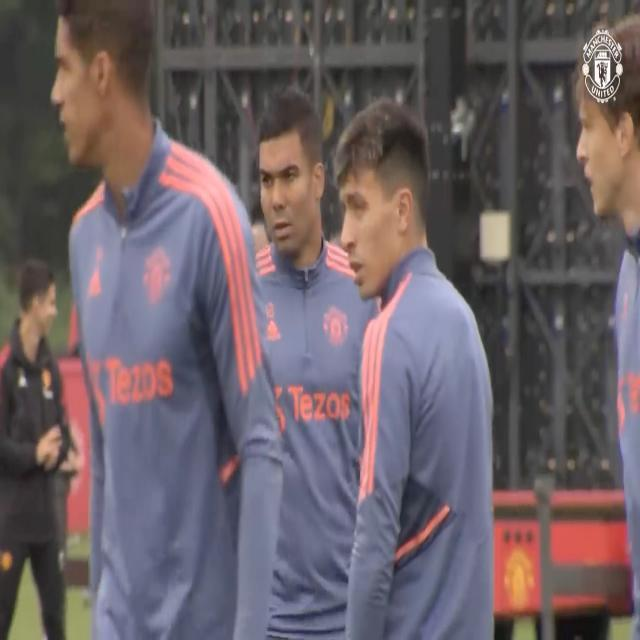Adidas: (265, 318, 283, 344)
